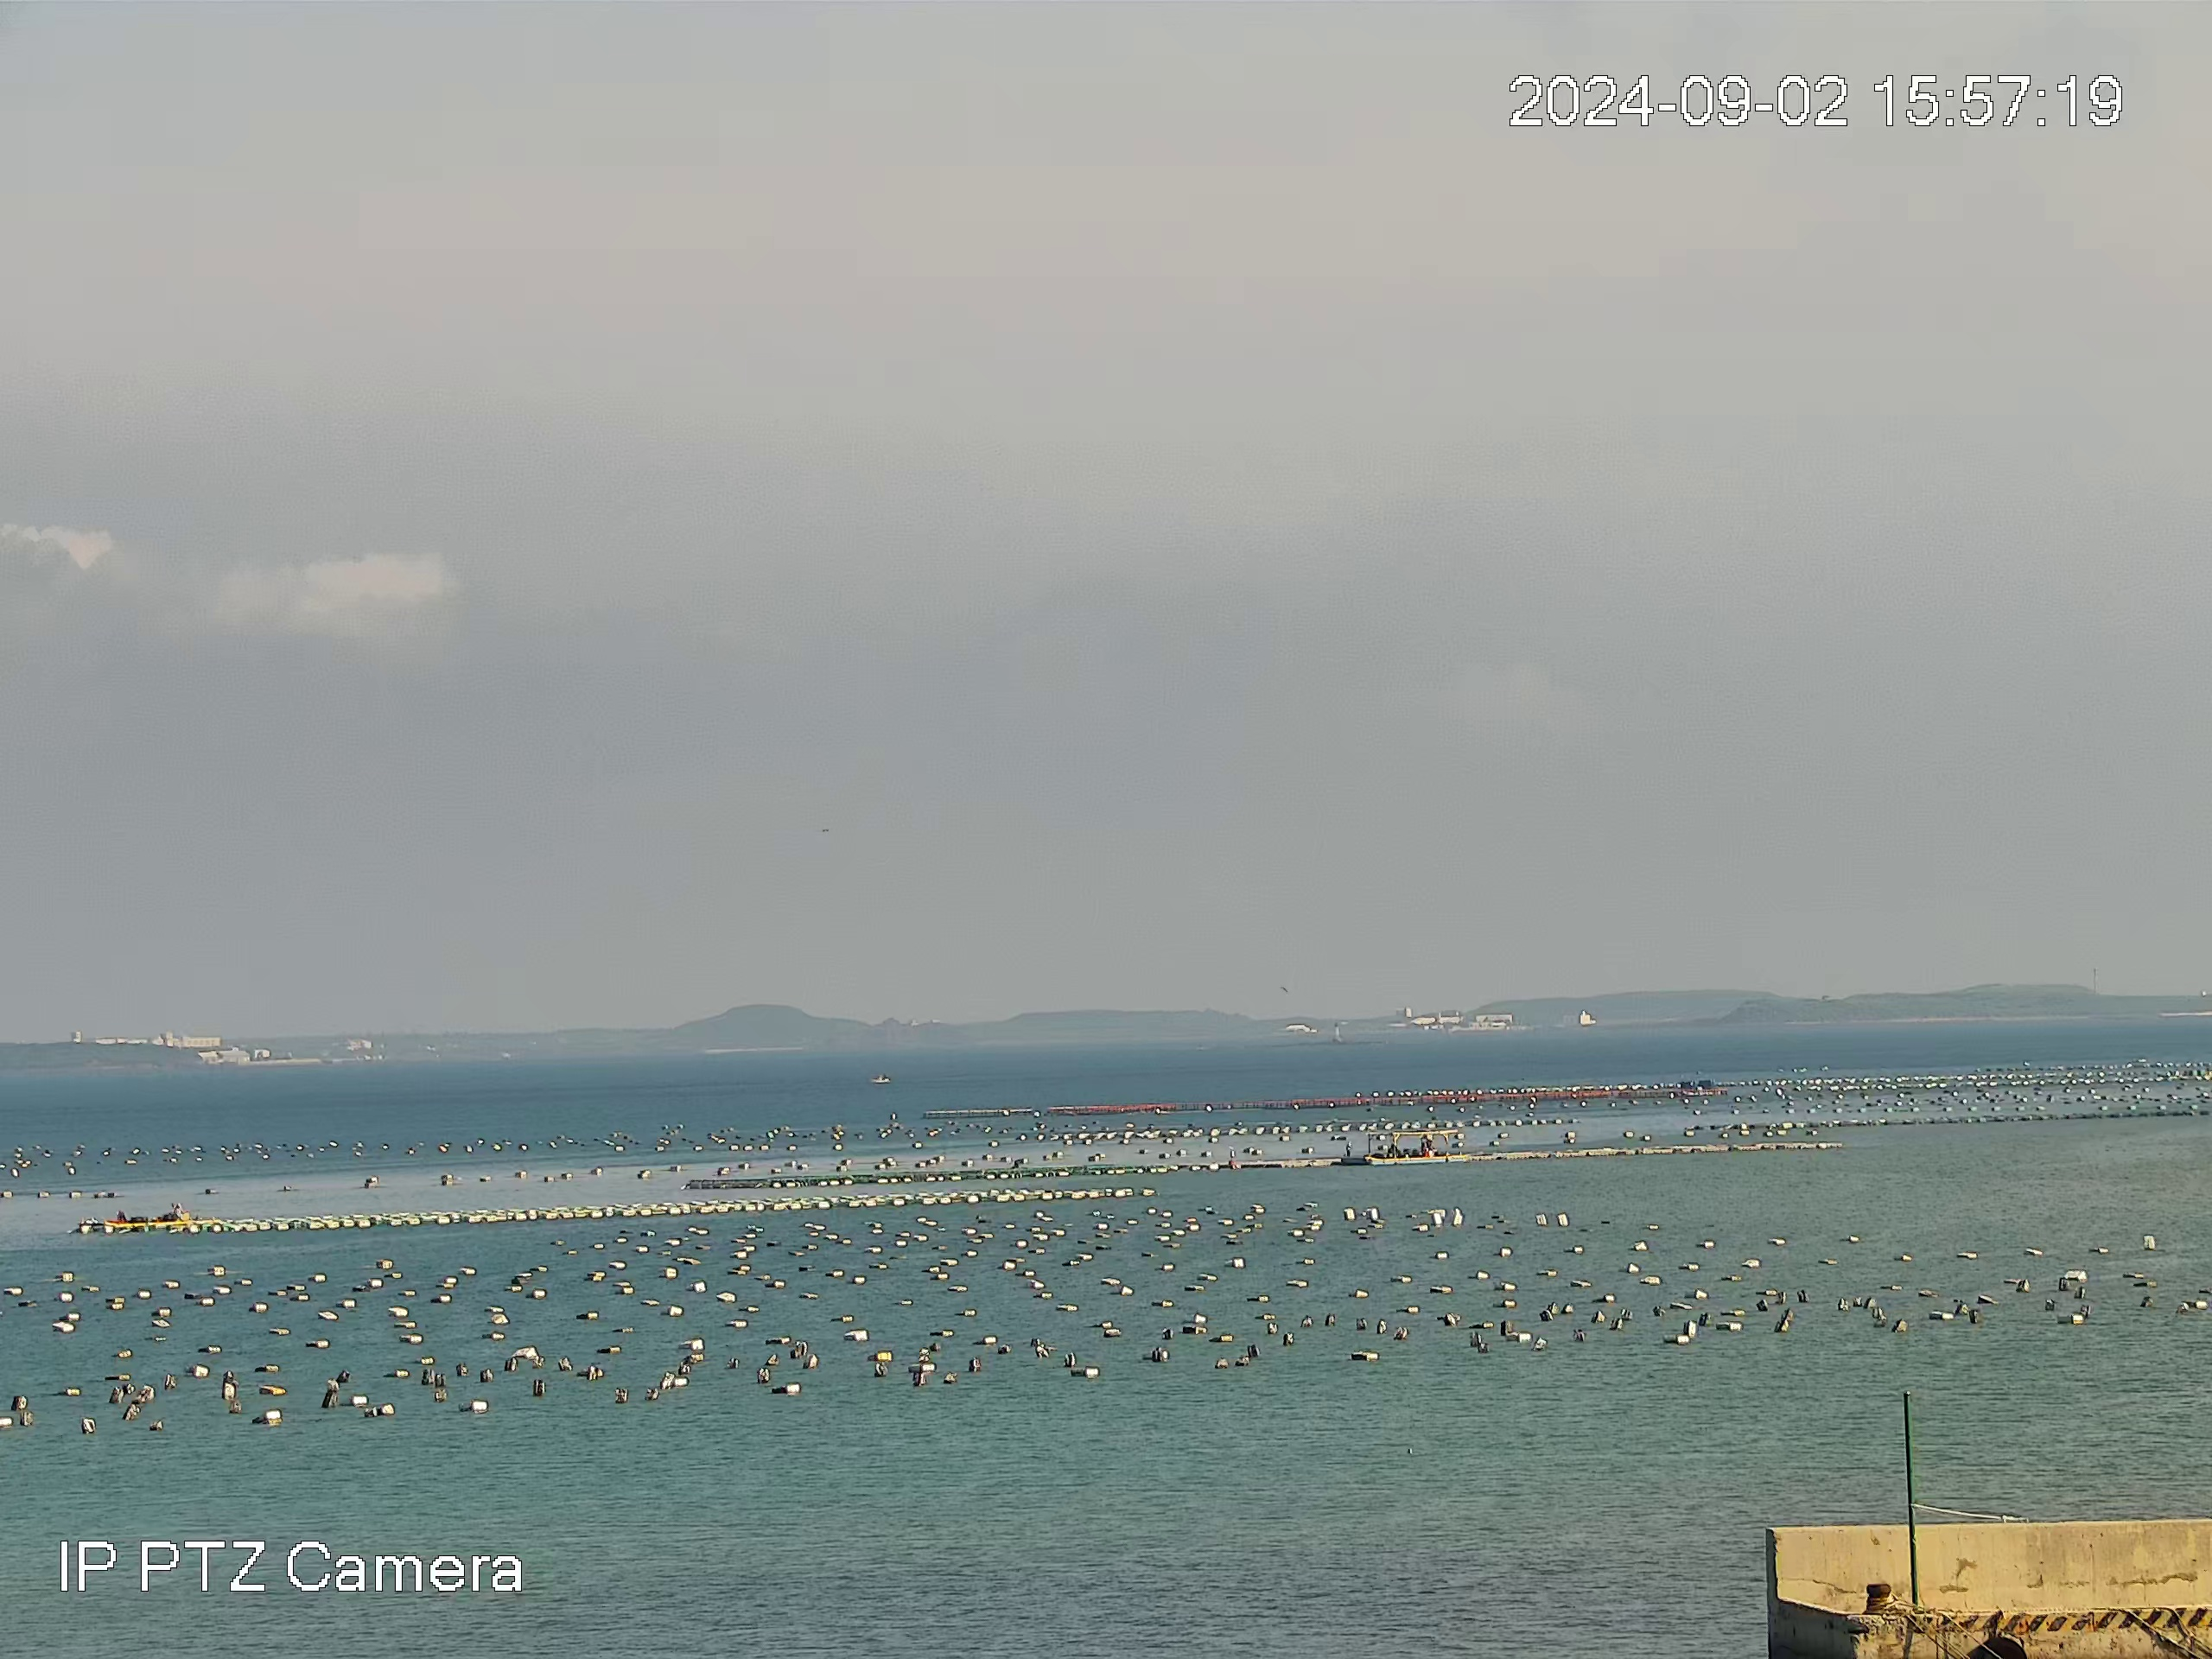boat: (1362, 1127, 1472, 1168), (101, 1201, 223, 1227), (869, 1072, 890, 1086)
